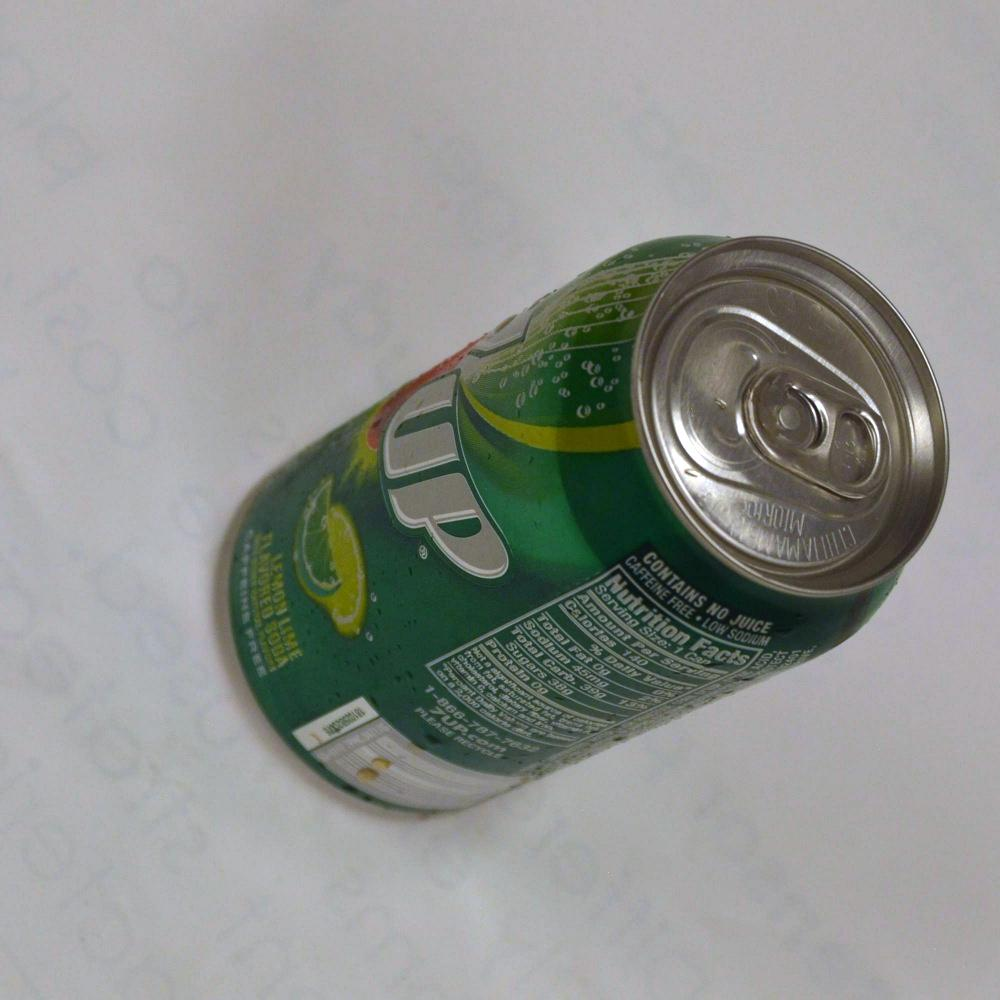Metal: (126, 143, 990, 868)
